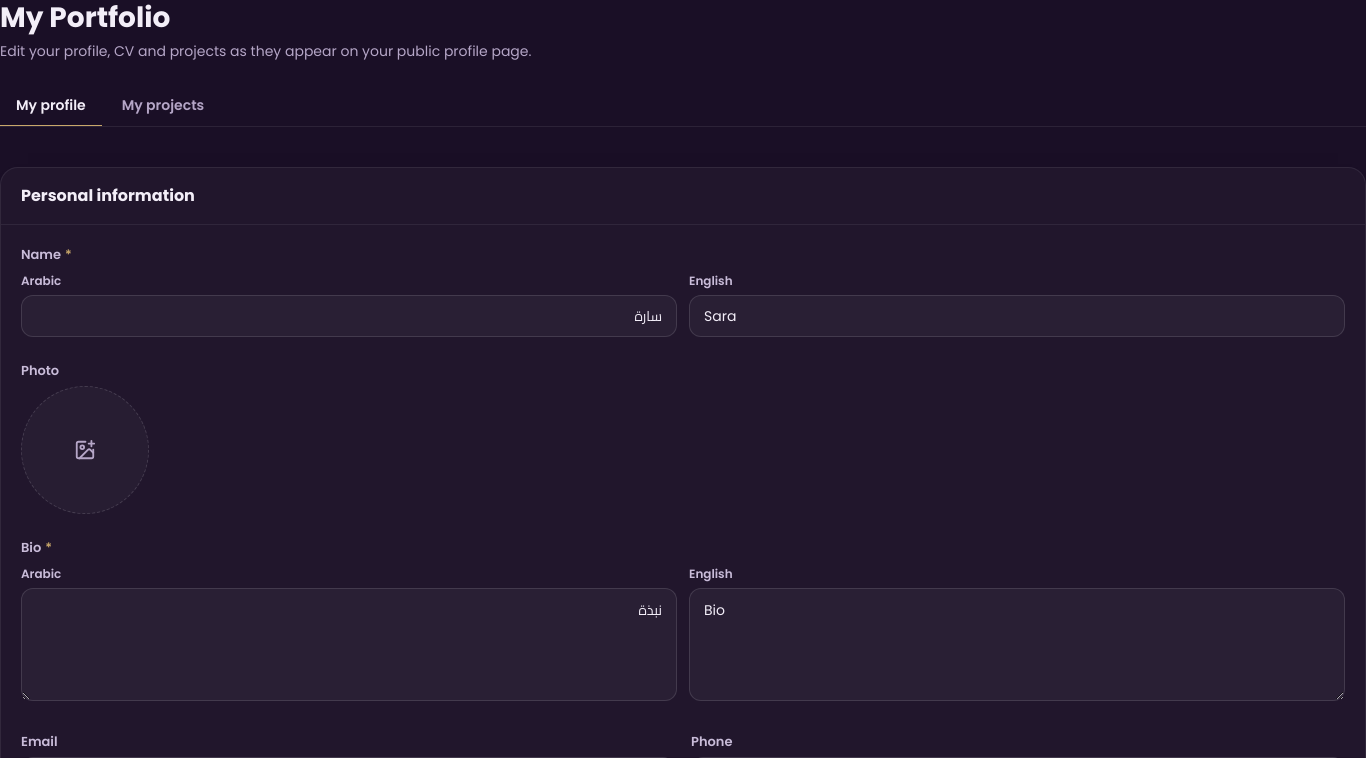
Test: MyPortfolioPage › shows the own projects on the second tab
Expected: the field named "Name (English)" is shown, [689,294,1345,336]
Click the tab "My projects".
click(163, 106)  # box [106,85,220,127]
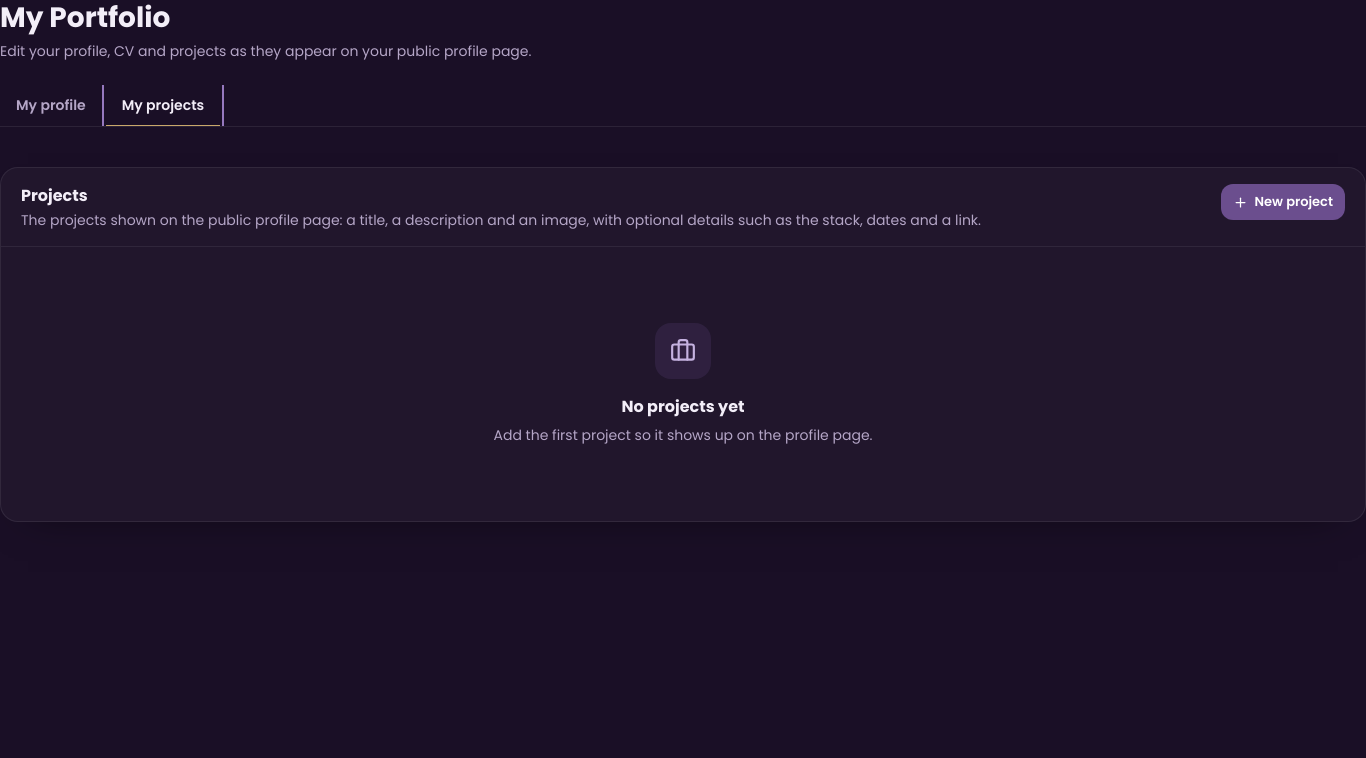
Now the heading "No projects yet" is shown, box [622,395,744,419]
